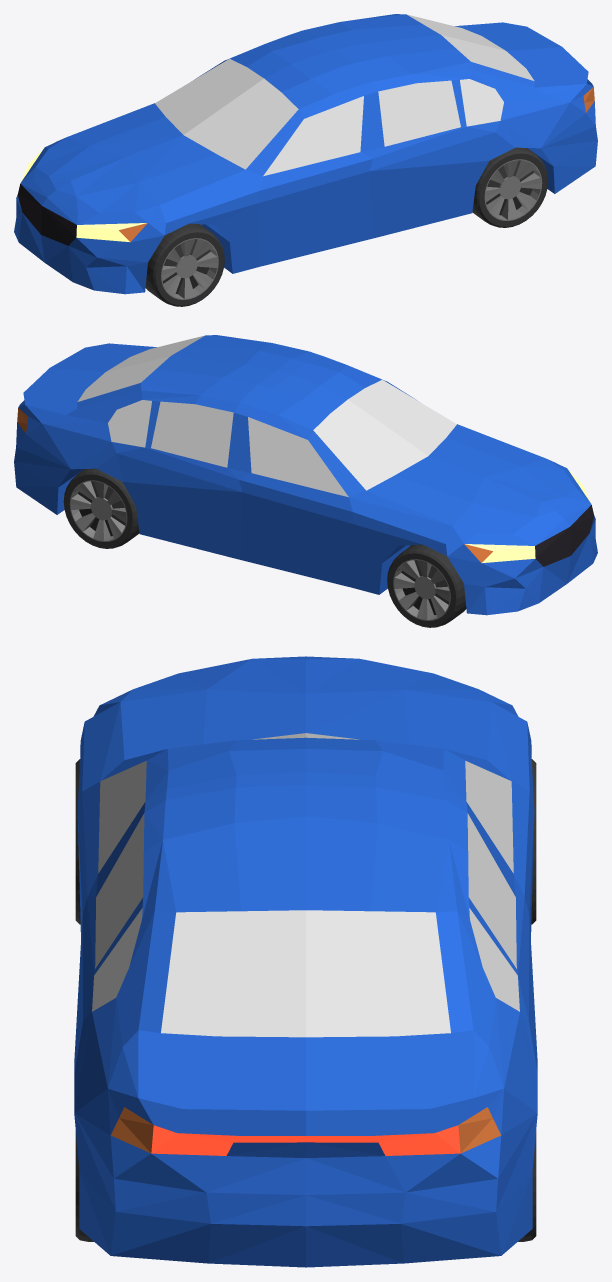
File: bmw_7_1_5.fbx
The picture shows the model from 3 angles, top to bottom: view 1: azimuth 30°, elevation 25°; view 2: azimuth 150°, elevation 25°; view 3: azimuth 270°, elevation 25°; orthographic projection. The views are drawn at different scales.
Visible parts, largest first — view 1: Car, Wheel Front Left, Wheel Rear Left; view 2: Car, Wheel Front Right, Wheel Rear Right; view 3: Car.
Boxes of the visible parts, x1,y1,x2,y2 form: Car: (14, 14, 597, 294); Wheel Front Left: (145, 223, 224, 306); Wheel Rear Left: (472, 147, 548, 227); Car: (14, 335, 597, 615); Wheel Front Right: (387, 544, 466, 627); Wheel Rear Right: (63, 468, 139, 548); Car: (74, 656, 537, 1267).
Bounding box in the file's own units: 181 × 143 × 473.
